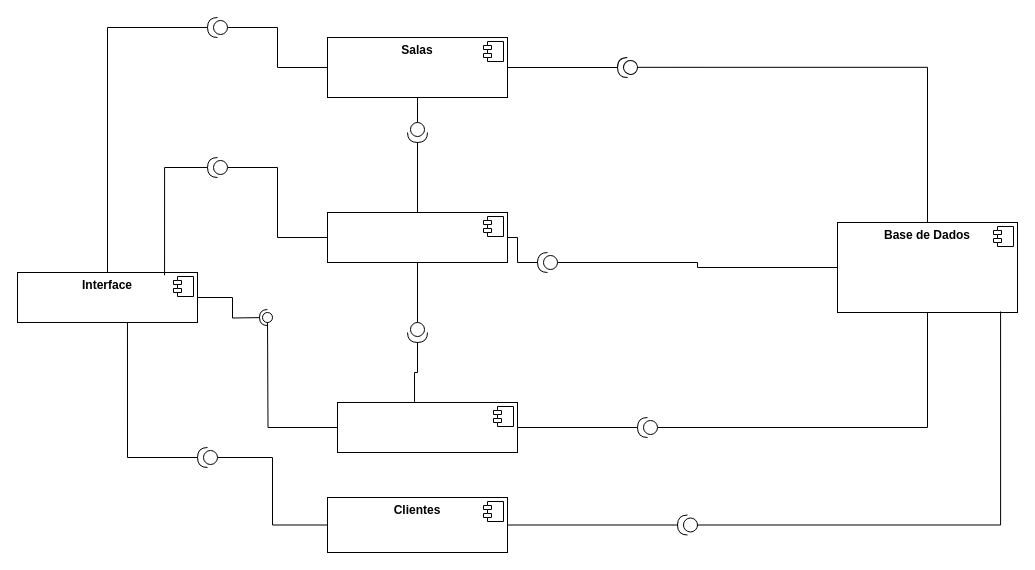
Image size: 1035x570. Some labels were removed from this diagram. Here are the shapes that lost their labels. From the top down, the centre of each, then its label:
At point (417, 237): "Espetáculos".
At point (427, 427): "Bilhetes".
